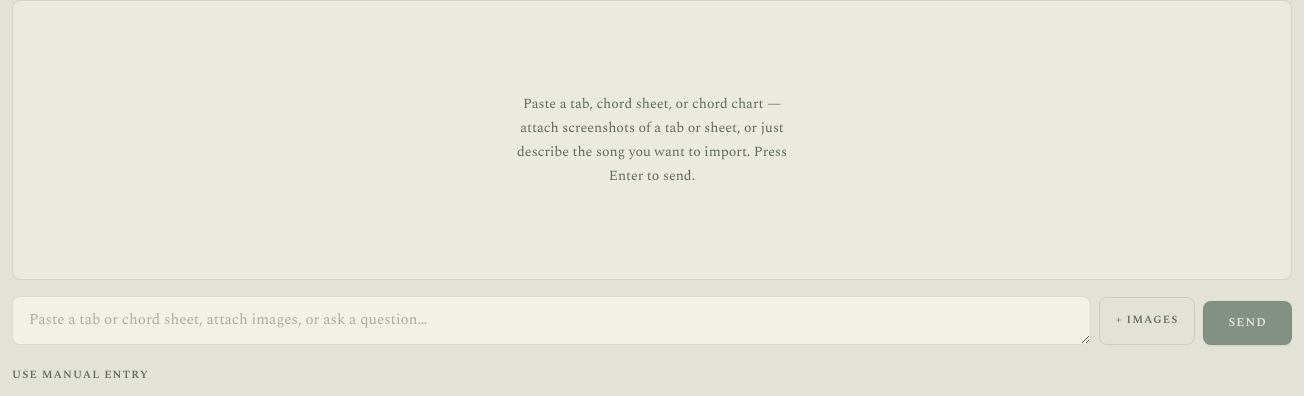
Scenario: ImportForm › shows a loading indicator in the thread while extracting
The width and height of the screenshot is (1304, 396).
Replace the text in the text box named "message" with "Am C G tab text" at coordinates (551, 320), box [12,296,1091,344]
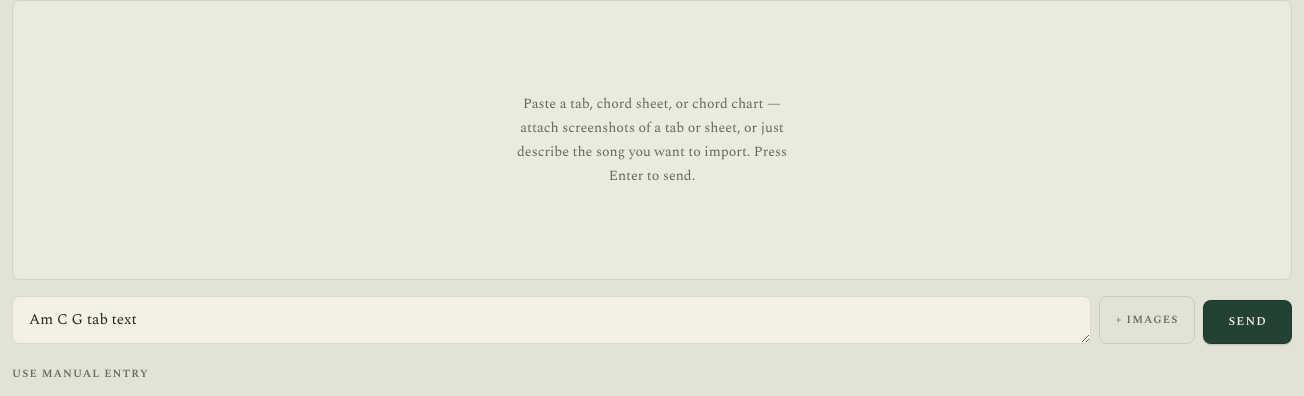
Click the button "Send" at coordinates (1248, 322), box [1203,300,1292,344]
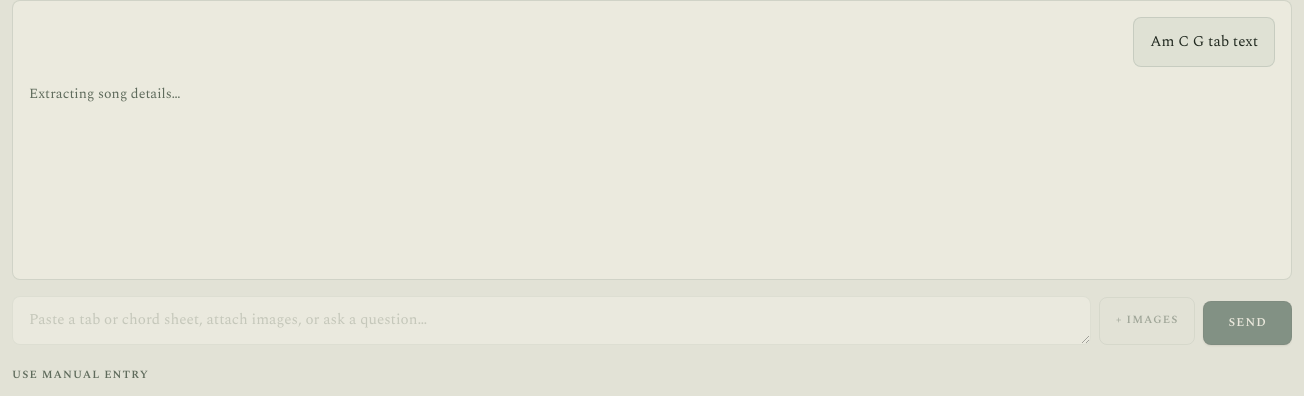
Check: the message "Extracting song details…" is shown, box [29,83,181,104]
Check: the text box named "message" is disabled, box [12,296,1091,344]
